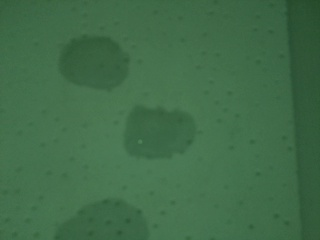Water_detected: (127, 109, 186, 153), (72, 39, 112, 77), (86, 214, 131, 240)
